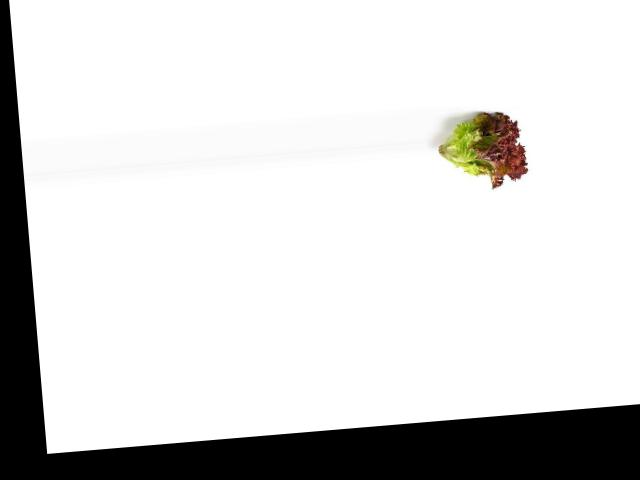lettuce: (424, 107, 533, 191)
